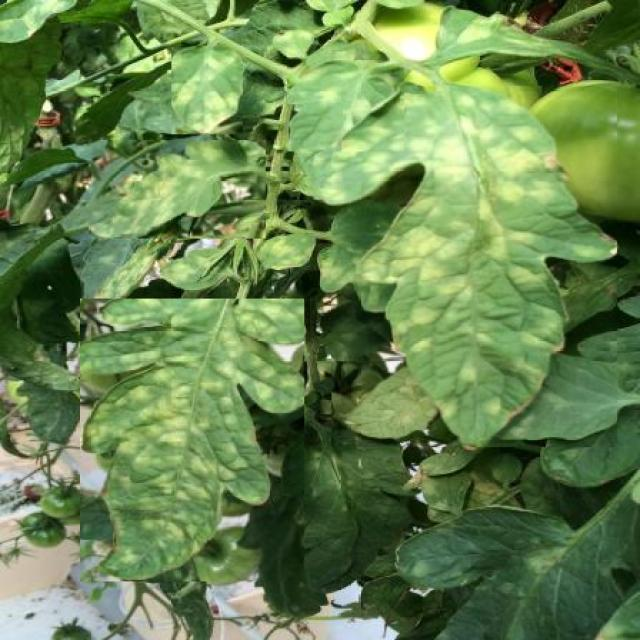Leaf Mold: (332, 86, 618, 447), (80, 299, 304, 582), (89, 140, 265, 239), (287, 52, 404, 152), (172, 46, 242, 134)
